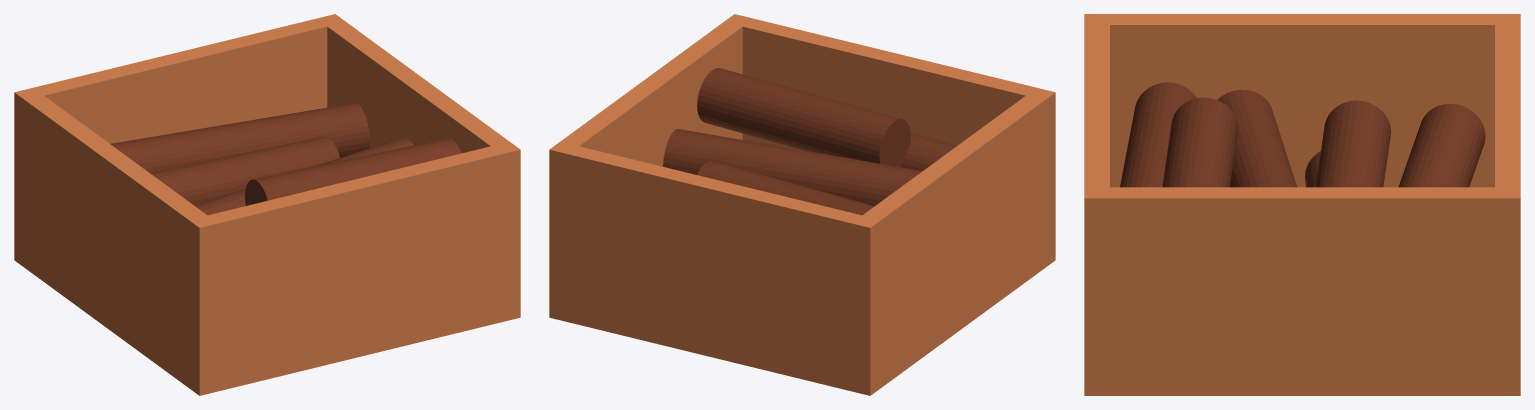
File: station_wood.glb
3 renders of one model, left to right at view 1: azimuth 30°, elevation 25°; view 2: azimuth 150°, elevation 25°; view 3: azimuth 270°, elevation 25°, orthographic. The views are drawn at different scales.
Parts seen in each view (by area): view 1: Cube.007, Cylinder.020, Cylinder.021, Cylinder.024, Cylinder.022; view 2: Cube.007, Cylinder.024, Cylinder.022, Cylinder.021, Cylinder.023; view 3: Cube.007, Cylinder.024, Cylinder.021, Cylinder.020, Cylinder.022, Cylinder.023, Cylinder.018.
Part boxes in pixels (box(x1,y1,x2,y2)): Cube.007: box(14, 14, 520, 395); Cylinder.020: box(110, 103, 369, 172); Cylinder.021: box(150, 136, 339, 205); Cylinder.024: box(245, 138, 461, 205); Cylinder.022: box(194, 138, 413, 215); Cube.007: box(549, 14, 1055, 395); Cylinder.024: box(697, 68, 910, 167); Cylinder.022: box(663, 129, 922, 205); Cylinder.021: box(697, 161, 874, 215); Cylinder.023: box(901, 132, 956, 170); Cube.007: box(1084, 14, 1520, 395); Cylinder.024: box(1162, 97, 1237, 187); Cylinder.021: box(1315, 100, 1390, 187); Cylinder.020: box(1398, 103, 1485, 187); Cylinder.022: box(1217, 89, 1296, 187); Cylinder.023: box(1120, 82, 1196, 187); Cylinder.018: box(1305, 151, 1320, 187).
Bounding box in the file's own units: 3.4 × 1.7 × 3.4.
